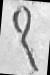V7: (2, 0, 49, 74)
